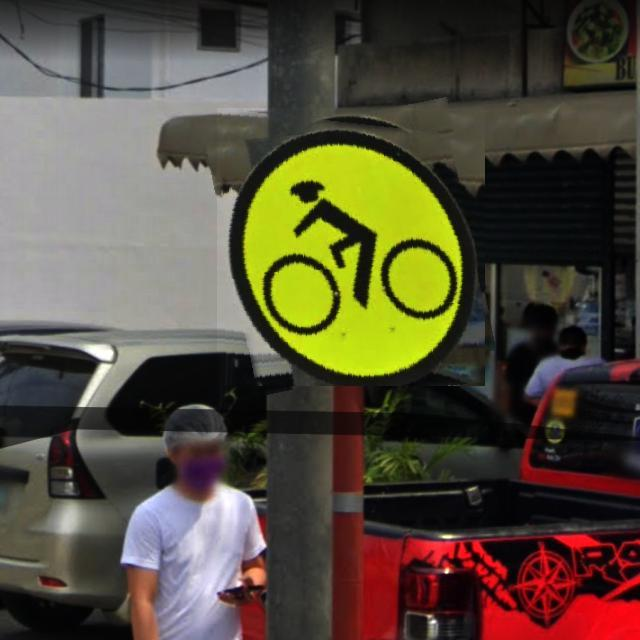bike lane: (217, 108, 485, 386)
